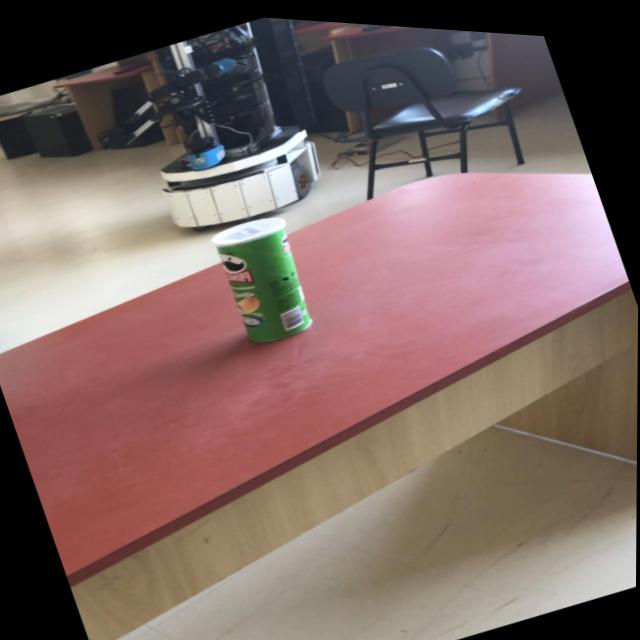a pringles: (207, 202, 325, 350)
